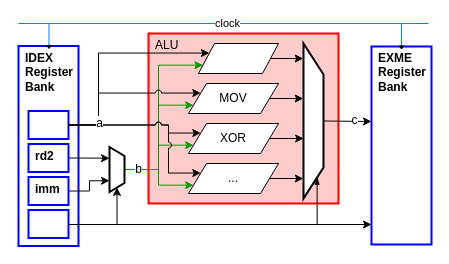
Some shapes in this 449 by 264 pixel diagram are drawn without their labels. Here are the shapes that lost their labels. From the top down, the centre of each, then its label:
At point 238,58: "ADD".
At point 48,125: "rd1".
At point 48,223: "control regs".
